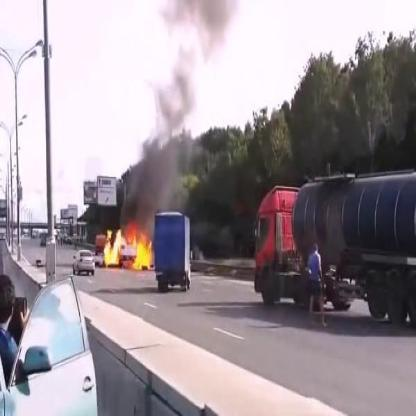fire: (102, 226, 154, 272)
